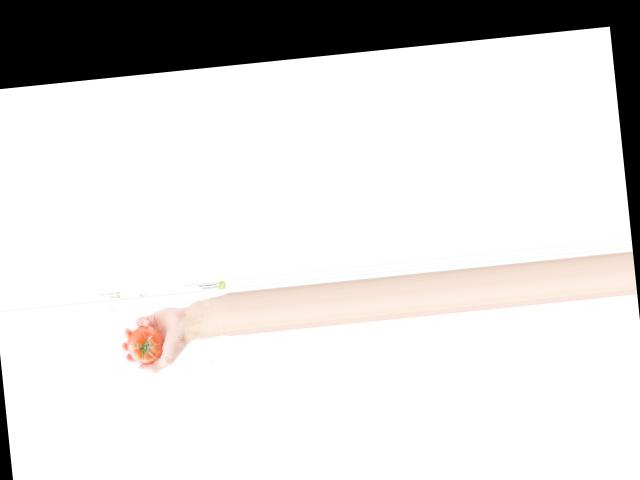tomato: (125, 323, 164, 364)
